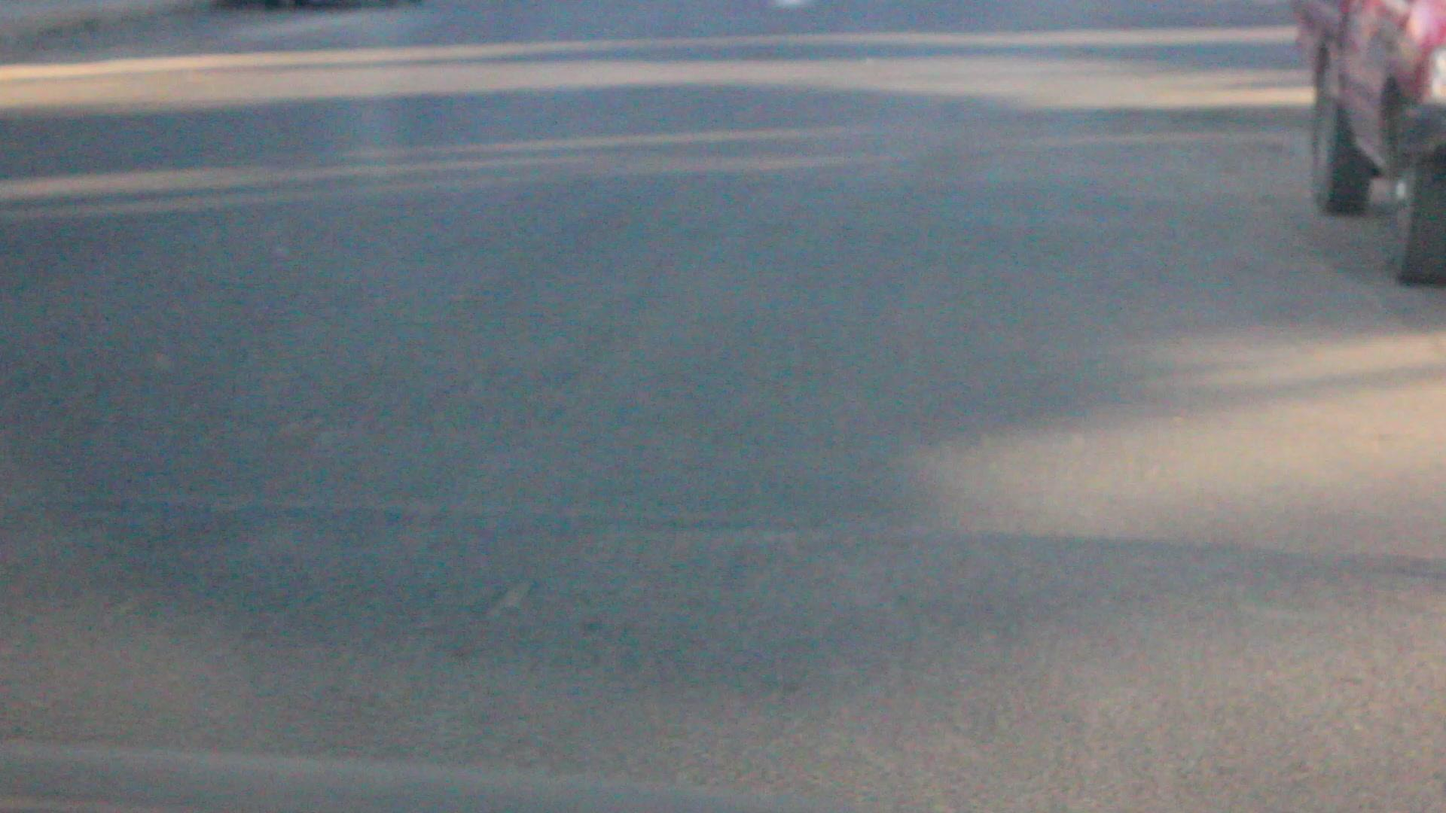Bump: (24, 497, 1446, 813)
